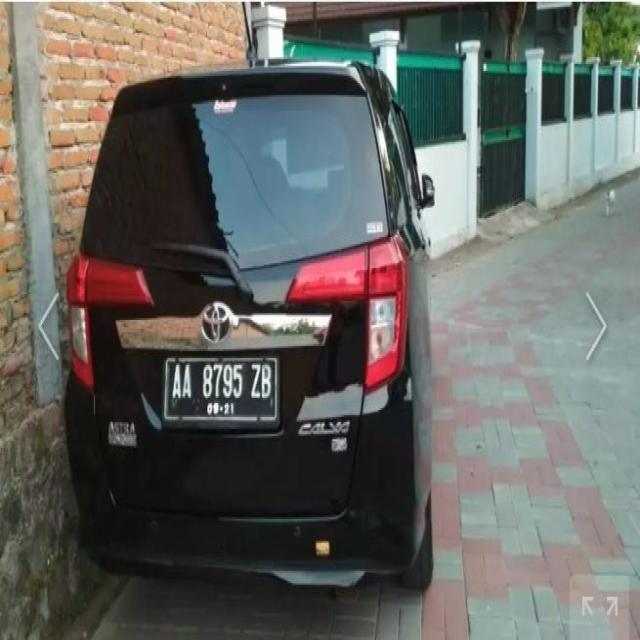plate: (166, 356, 277, 419)
